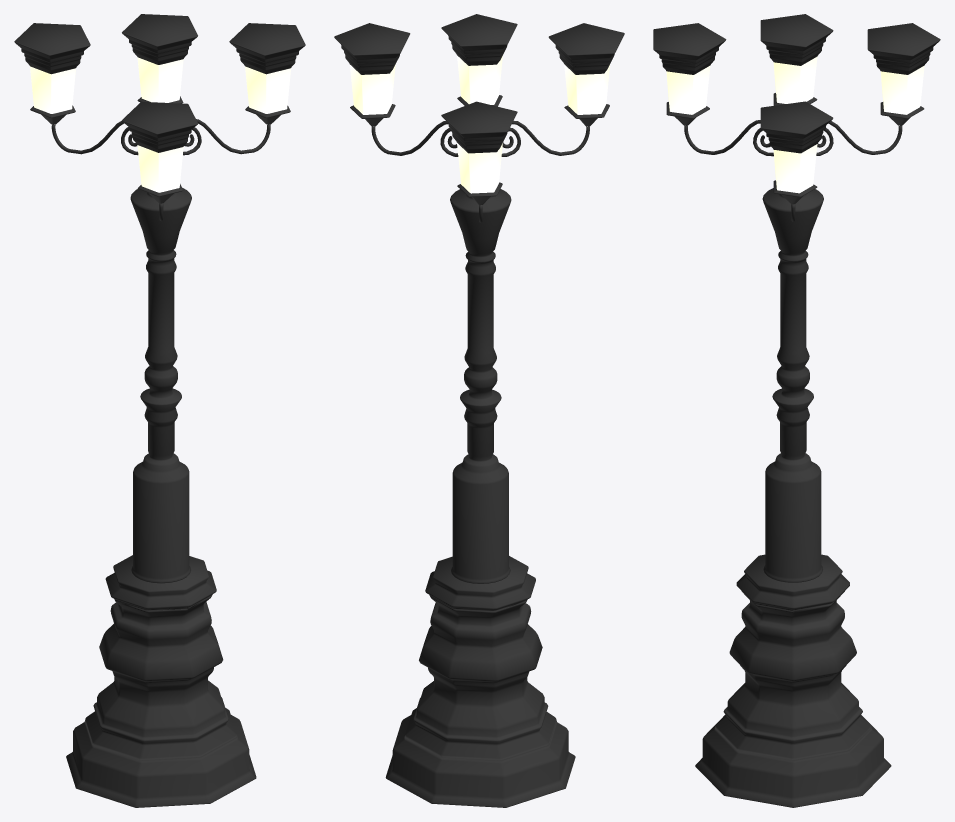
Rendered from GasLamp.fbx.
3 views of the same model, side by side, from view 1: azimuth 30°, elevation 25°; view 2: azimuth 150°, elevation 25°; view 3: azimuth 270°, elevation 25° (orthographic).
Visible parts, largest first — view 1: Cylinder.001; view 2: Cylinder.001; view 3: Cylinder.001.
Boxes of the visible parts, x1,y1,x2,y2 form: Cylinder.001: [14, 14, 305, 807]; Cylinder.001: [334, 14, 624, 807]; Cylinder.001: [653, 14, 940, 807].
Bounding box in the file's own units: 1.29 × 4 × 1.41.
